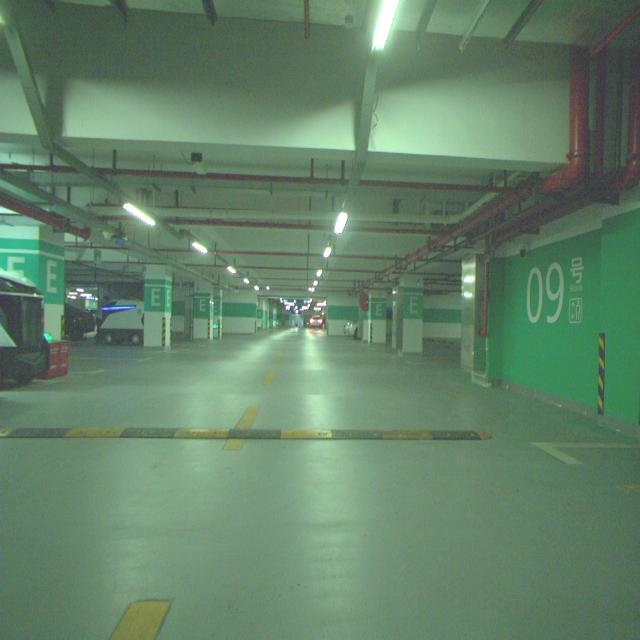pillar: (0, 223, 65, 339), (144, 264, 172, 346)
